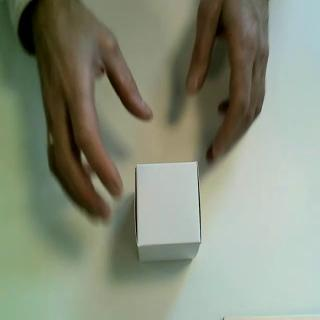apodorm5mg: (134, 160, 204, 264)
